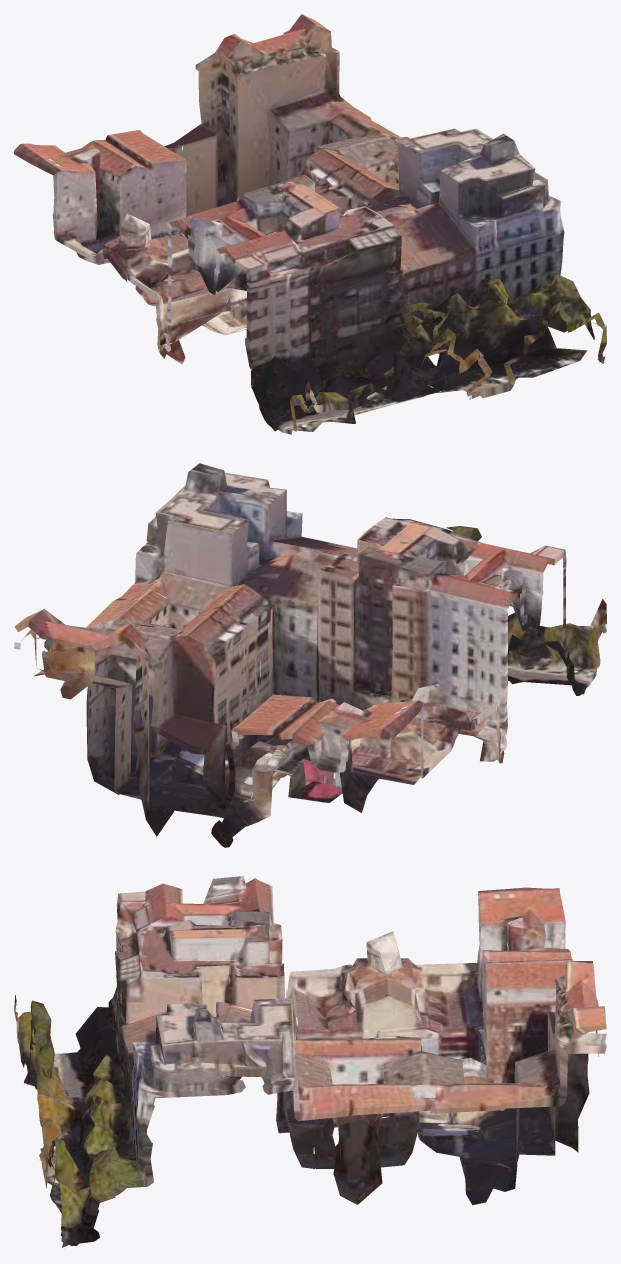
3 renders of one model, top to bottom at view 1: azimuth 30°, elevation 25°; view 2: azimuth 150°, elevation 25°; view 3: azimuth 270°, elevation 25°, orthographic. The views are drawn at different scales.
Parts seen in each view (by area): view 1: Mesh_0; view 2: Mesh_0; view 3: Mesh_0.
Part boxes in pixels (bbox=[...]): Mesh_0: bbox=[14, 14, 606, 434]; Mesh_0: bbox=[14, 463, 606, 847]; Mesh_0: bbox=[14, 876, 606, 1247].
Size of the model in its own units: 66.59 by 33.24 by 82.67.
1 material, 1 textured.
